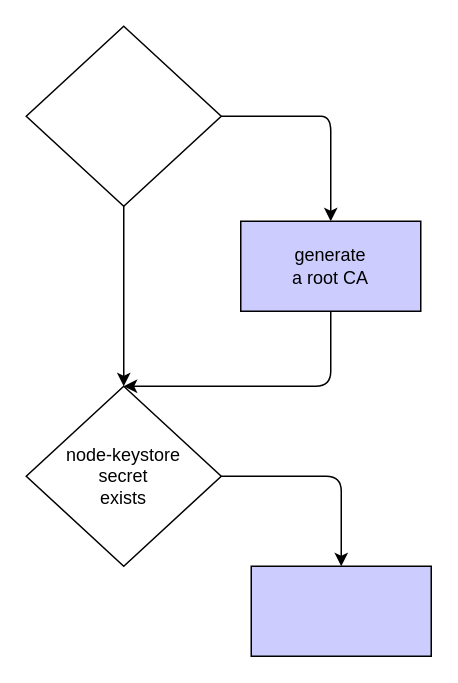
Some shapes in this 458 by 683 pixel diagram are drawn without their labels. The shapes that lost their labels are listed below. From the top down, each one's centre as x and y in pixels, then its label:
point 123,115: ca-pub & ca-key secret exists
point 340,610: generate a wildcard node-certificate
